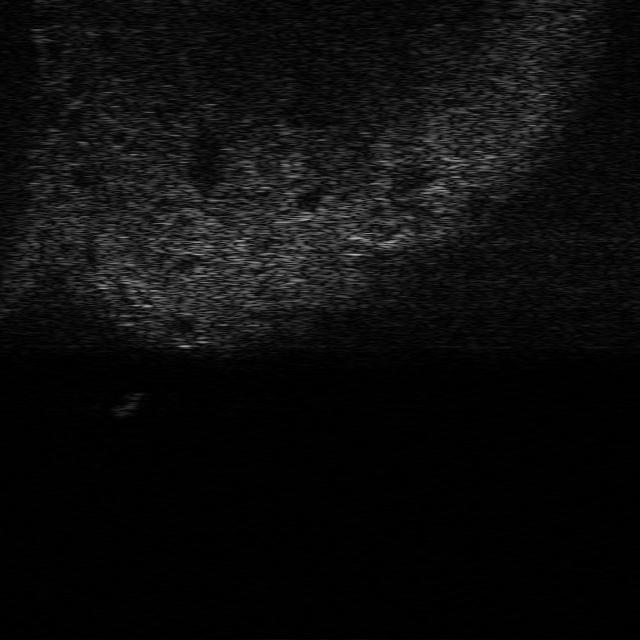cylinder: (110, 391, 148, 418)
